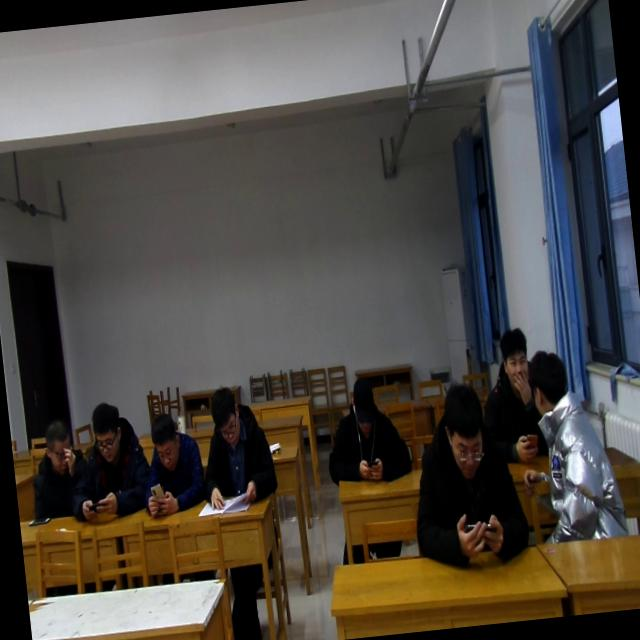down: (437, 377, 492, 481), (206, 378, 243, 452), (85, 398, 124, 466), (145, 409, 183, 472), (345, 369, 378, 438)
lookup: (495, 325, 532, 394)
sit: (401, 375, 533, 574), (510, 342, 630, 546), (473, 319, 560, 466), (60, 396, 156, 525), (192, 380, 280, 514), (316, 369, 414, 486), (132, 408, 209, 518), (22, 413, 94, 522)
